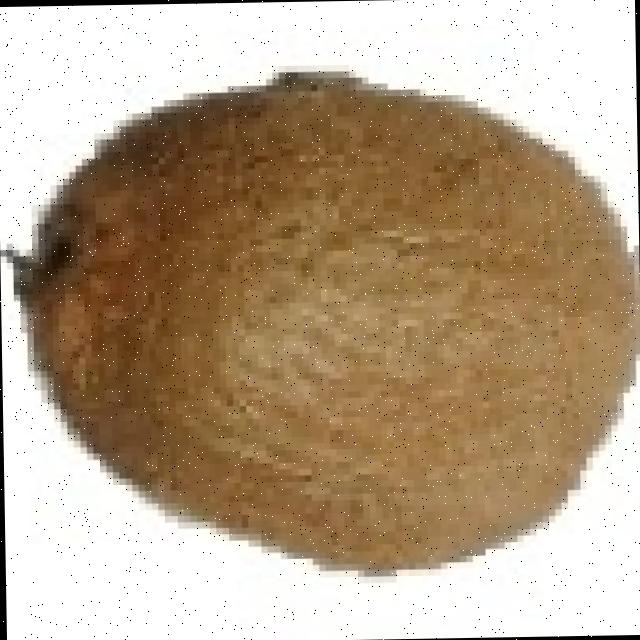kiwi: (38, 89, 640, 581)
